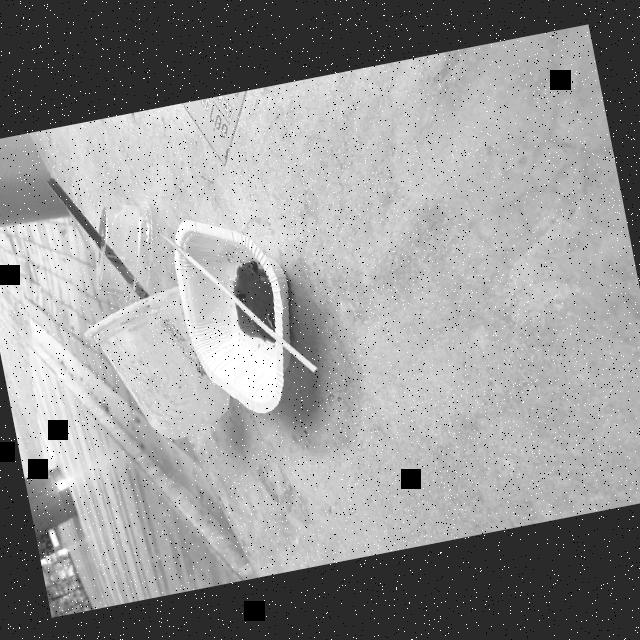cardboard_bowl: (161, 200, 315, 426)
plastic_cup: (80, 268, 240, 461)
stick: (158, 209, 321, 399)
straw: (38, 155, 147, 315)
